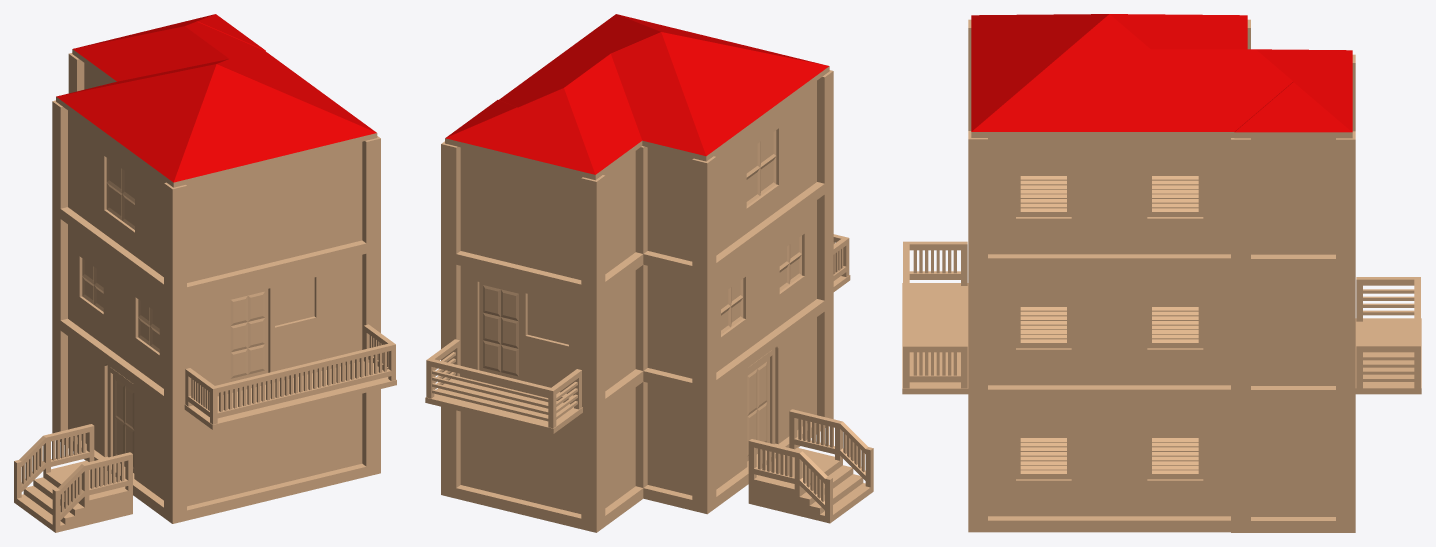
Rendered from Building-2.fbx.
3 renders of one model, left to right at view 1: azimuth 30°, elevation 25°; view 2: azimuth 150°, elevation 25°; view 3: azimuth 270°, elevation 25°, orthographic. The views are drawn at different scales.
Visible parts, largest first — view 1: building_003; view 2: building_003; view 3: building_003.
Boxes of the visible parts, box(x1,y1,x2,y2) form: building_003: box(14, 14, 396, 532); building_003: box(425, 14, 873, 532); building_003: box(902, 14, 1421, 532).
Size of the model in its own units: 592 by 807 by 790.
